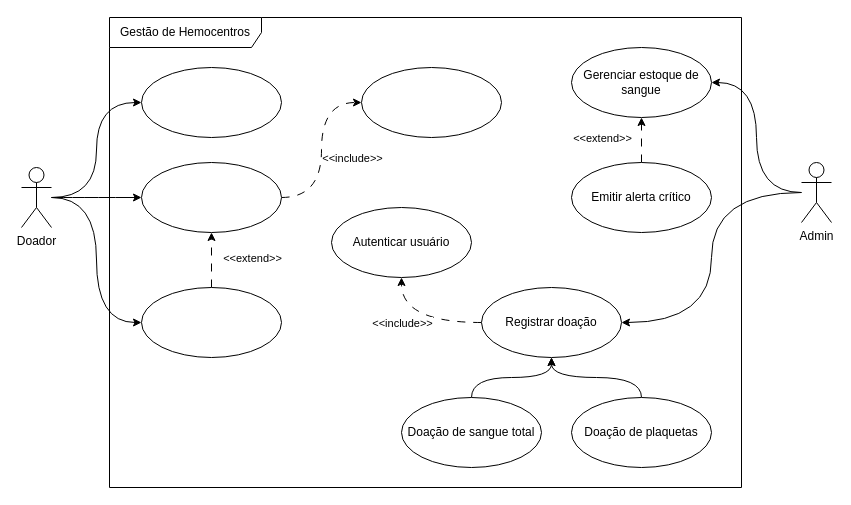
This 851x505 diagram has some shape labels left out. The centre of each missing label's shape, as x and y in pixels:
Consultar aptidão: (x=211, y=197)
Consultar histórico: (x=211, y=322)
Fazer cadastro WEB: (x=211, y=102)
Visualizar data da próxima doação: (x=431, y=102)
